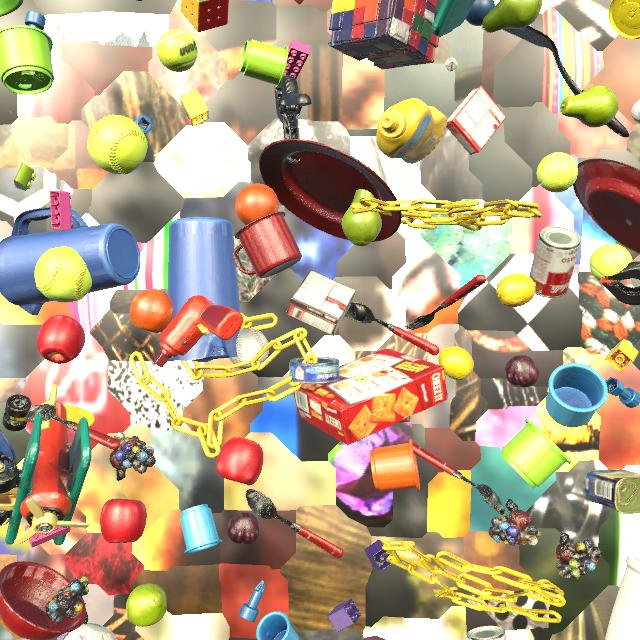ycb_003_cracker_box: (293, 348, 448, 445)
ycb_005_tomato_soup_can: (529, 226, 581, 298), (467, 626, 506, 640)
ycb_006_mustard_bottle: (376, 98, 447, 164)
ycb_007_tuna_fish_can: (290, 357, 340, 384)
ycb_008_pudding_box: (285, 270, 356, 336)
ycb_009_gelatin_box: (446, 85, 506, 155)
ycb_010_potted_meat_can: (583, 469, 640, 514), (0, 467, 20, 526)
ycb_013_apple: (37, 315, 85, 364), (216, 437, 264, 485), (100, 499, 147, 543)
ycb_014_lemon: (496, 274, 536, 307), (438, 346, 474, 380)
ycb_016_pear: (560, 86, 619, 128), (342, 189, 382, 246), (482, 0, 542, 33), (126, 583, 167, 627)
ycb_017_orange: (130, 289, 174, 333), (235, 184, 279, 225)
ycb_018_plum: (504, 355, 539, 388), (227, 512, 260, 545)
